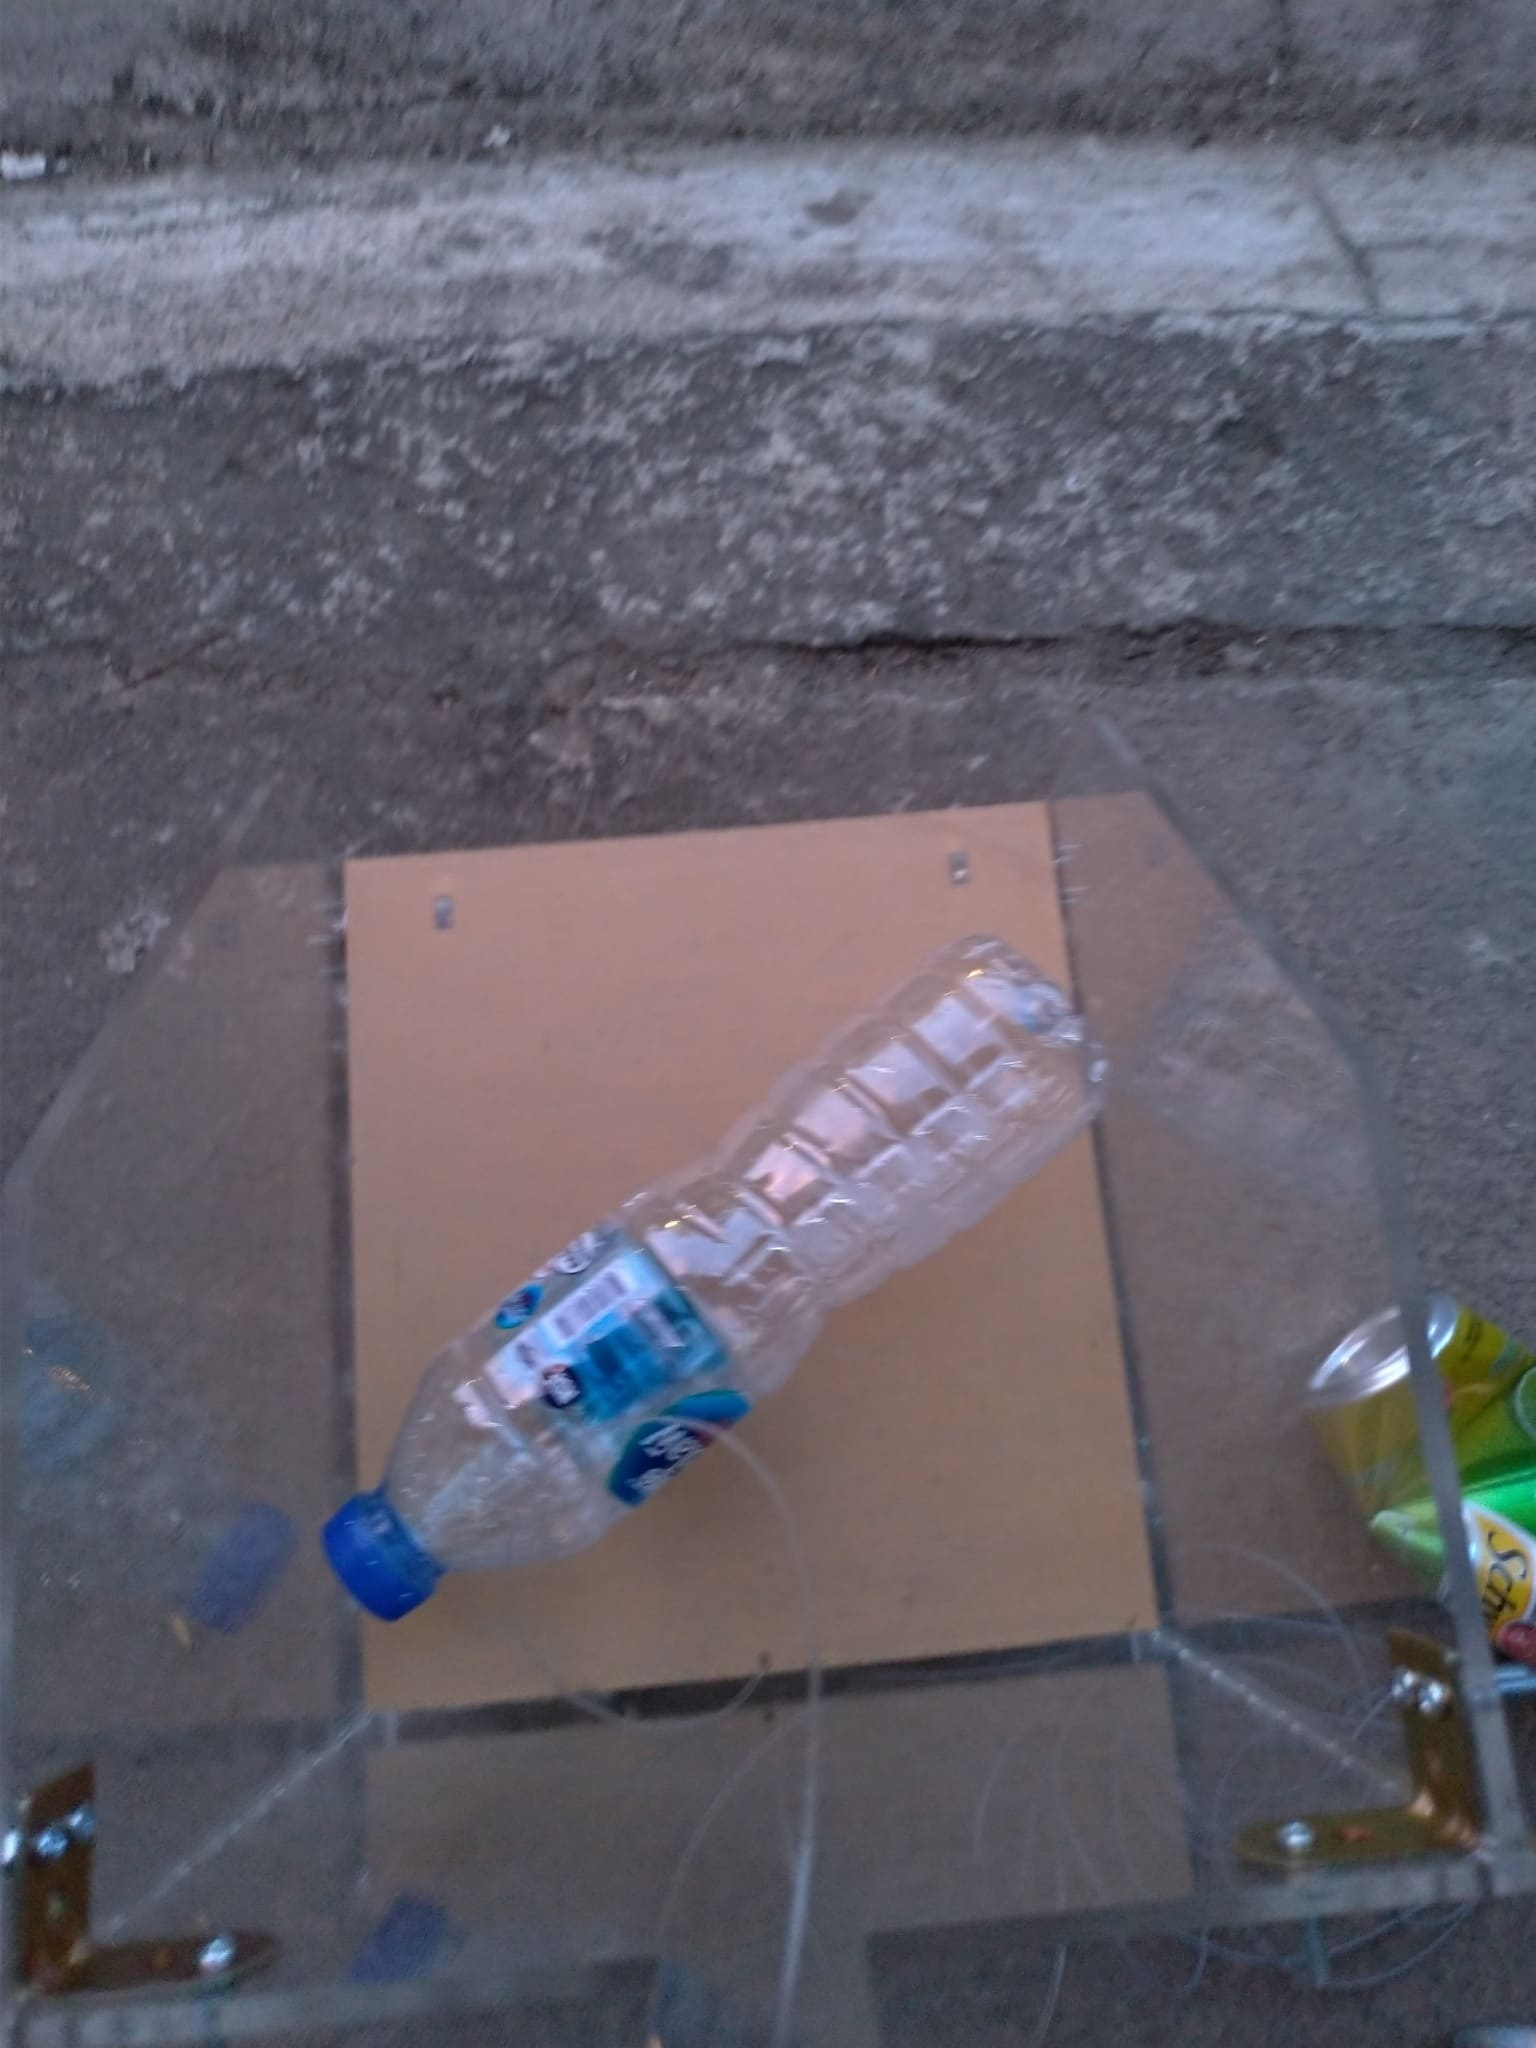AlCan: (1315, 1297, 1536, 1630)
PlasticBottle: (315, 922, 1112, 1622)
